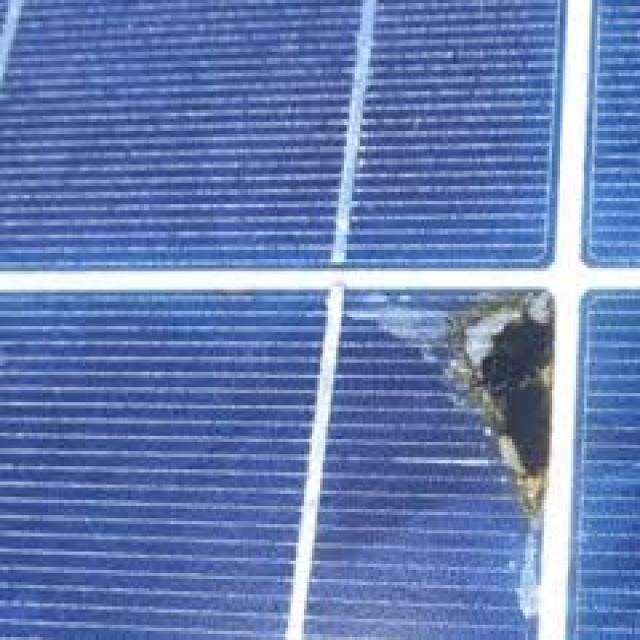faulty: (5, 17, 640, 636)
